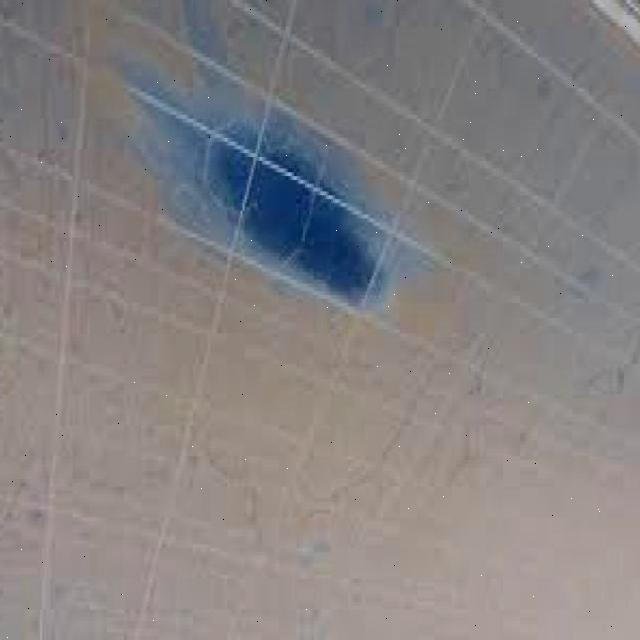Anomaly Solar Panel: (0, 0, 639, 637)
Surface Contaminant: (0, 0, 640, 640)
